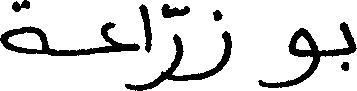X: (261, 23, 318, 90), (0, 0, 45, 58), (101, 17, 136, 90), (200, 5, 230, 84), (161, 0, 182, 86), (141, 0, 151, 90), (341, 17, 356, 75)
